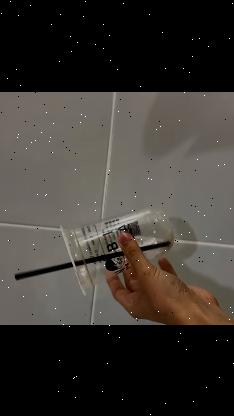Others: (62, 203, 172, 295)
